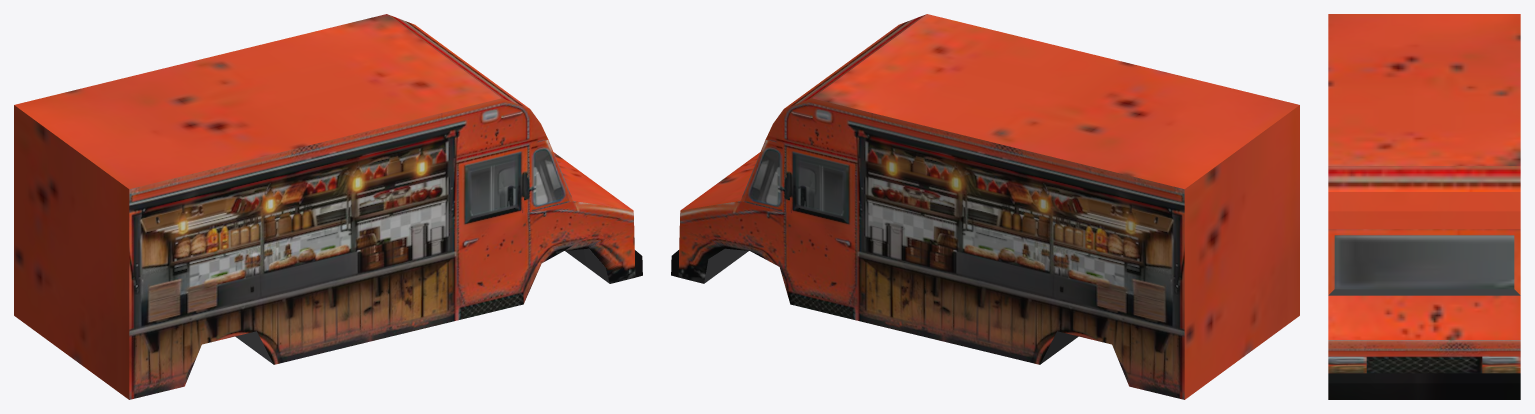
Rendered from VECHICLE_FOOD_TRUCK.fbx.
3 renders of one model, left to right at view 1: azimuth 30°, elevation 25°; view 2: azimuth 150°, elevation 25°; view 3: azimuth 270°, elevation 25°, orthographic. The views are drawn at different scales.
Parts seen in each view (by area): view 1: VECHICLE_FOOD_TRUCK; view 2: VECHICLE_FOOD_TRUCK; view 3: VECHICLE_FOOD_TRUCK.
Part boxes in pixels (x1,y1,x2,y2): VECHICLE_FOOD_TRUCK: (14,14,642,399); VECHICLE_FOOD_TRUCK: (671,14,1299,399); VECHICLE_FOOD_TRUCK: (1328,14,1520,399).
Bounding box in the file's own units: 569 × 224 × 221.
